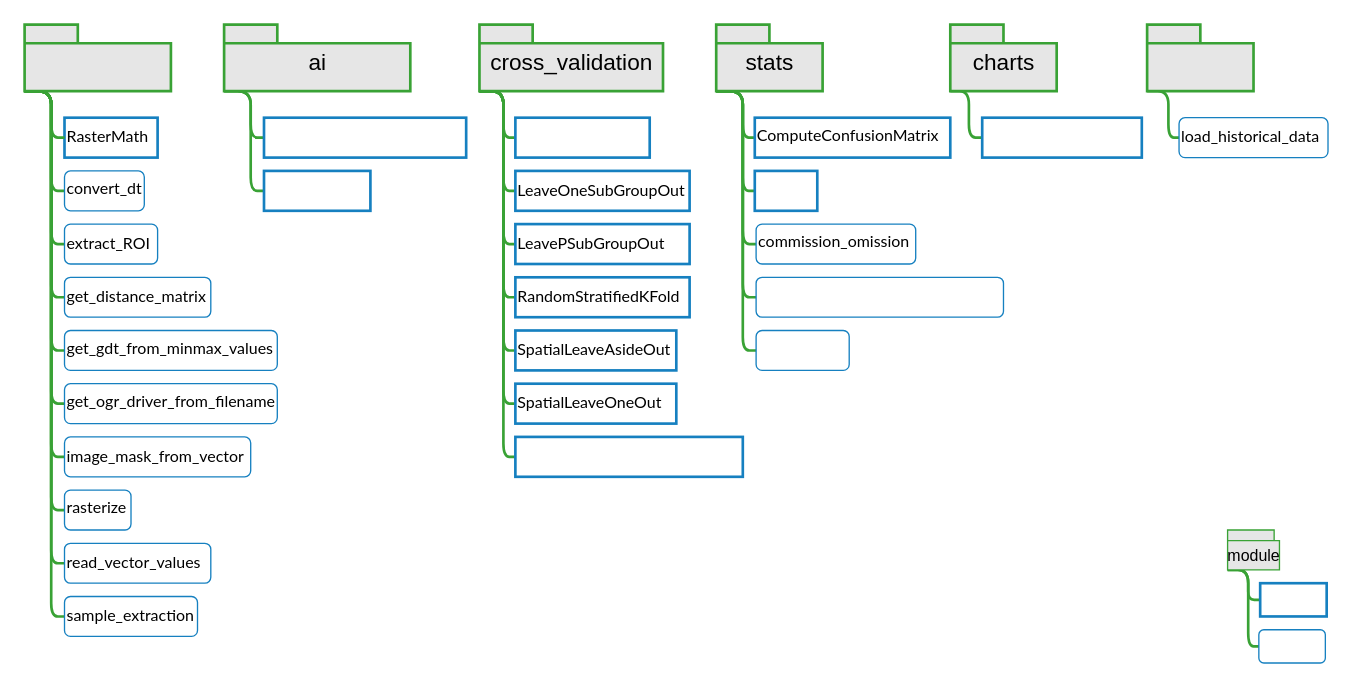
The diagram is 1351 pixels wide and 686 high, and some of its shapes have lost their labels. Each missing label, with the box of its shape:
Class: (1258, 581, 1327, 617)
datasets: (1145, 23, 1254, 92)
function: (1258, 628, 1325, 663)
LeaveOneOut: (513, 116, 650, 158)
Moran: (753, 169, 818, 211)
PlotConfusionMatrix: (980, 116, 1142, 158)
processing: (23, 23, 172, 92)
retrieve_y_from_confusion_matrix: (755, 276, 1003, 317)
SequentialFeatureSelection: (262, 116, 467, 158)
SpatialLeaveOneSubGroupOut: (513, 435, 743, 477)
SuperLearner: (262, 169, 371, 211)
zonal_stats: (755, 329, 849, 370)
